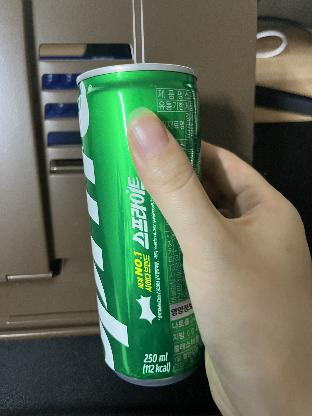Can: (77, 62, 205, 390)
